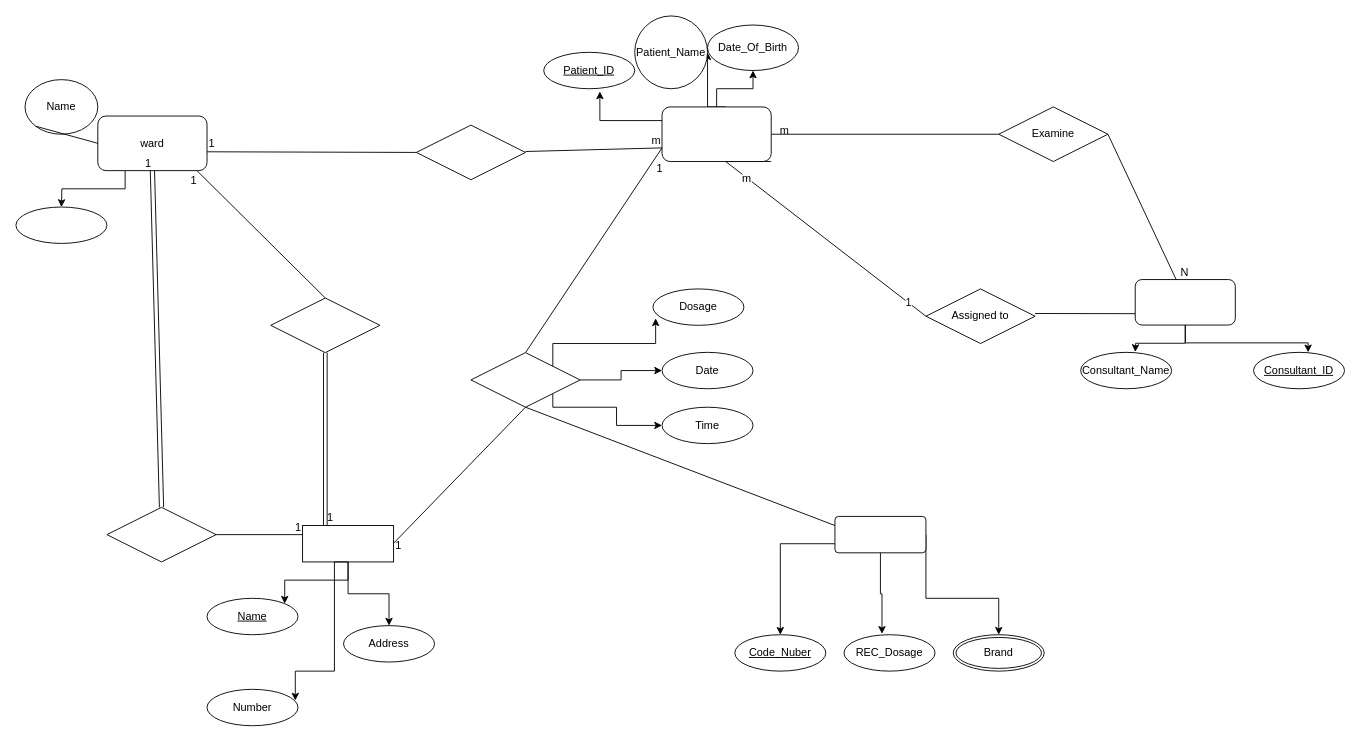
The diagram is 1360 pixels wide and 742 high, and some of its shapes have lost their labels. Each missing label, with the box of its shape:
Consultants: (1134, 279, 1235, 325)
Drug: (834, 516, 926, 553)
Gives: (470, 352, 580, 407)
Host: (415, 124, 526, 180)
Nurse: (302, 525, 394, 562)
patient: (661, 106, 771, 162)
Serve: (270, 297, 380, 353)
Supervise: (106, 506, 216, 562)
Ward_ID: (15, 206, 107, 243)
